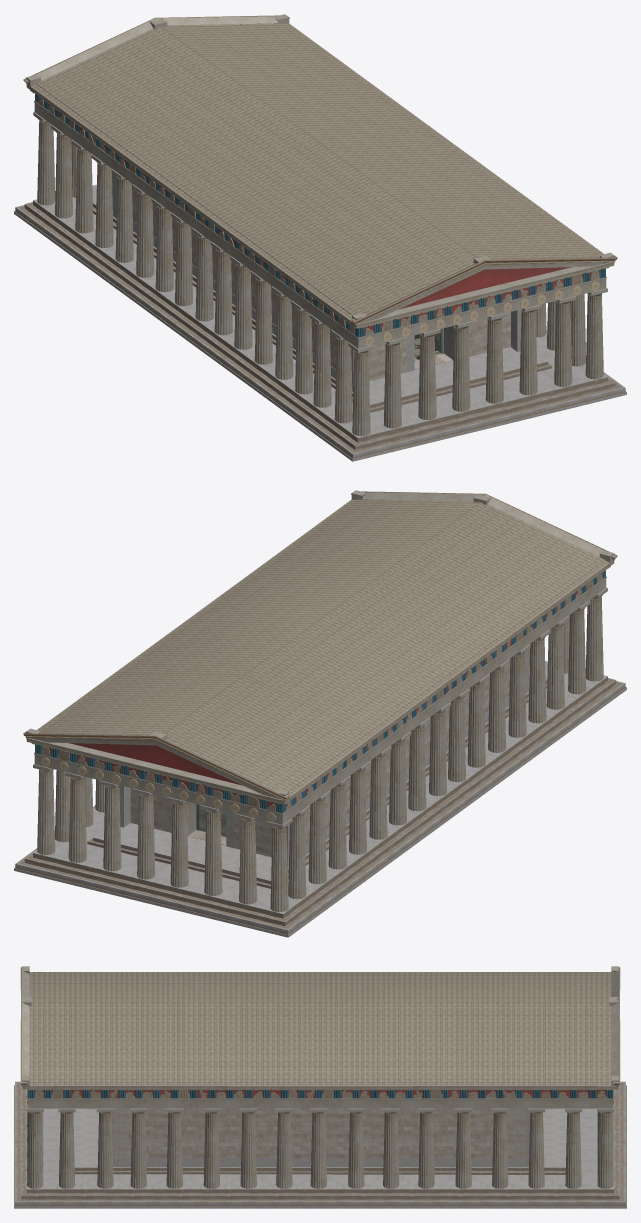
Rendered from TutorialStage.fbx.
3 views of the same model, one above another, from view 1: azimuth 30°, elevation 25°; view 2: azimuth 150°, elevation 25°; view 3: azimuth 270°, elevation 25° (orthographic). The views are drawn at different scales.
Parts seen in each view (by area): view 1: Temple; view 2: Temple; view 3: Temple.
Part boxes in pixels (bbox=[...]): Temple: bbox=[14, 14, 626, 461]; Temple: bbox=[14, 490, 626, 937]; Temple: bbox=[14, 966, 626, 1208].
Size of the model in its own units: 3395 by 1956 by 7260.
19 materials, 19 textured.
